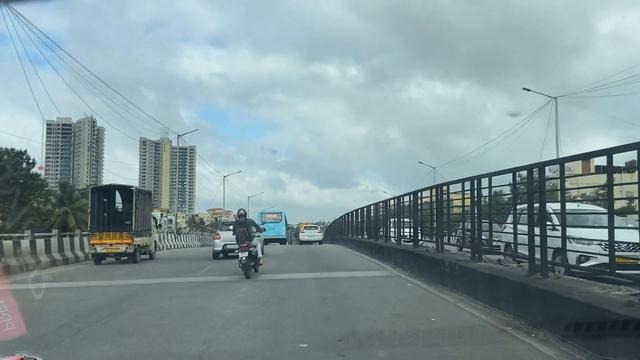HMV: (82, 170, 158, 277), (255, 200, 302, 250)
LMV: (213, 192, 270, 302), (197, 209, 271, 272), (299, 220, 331, 249)
